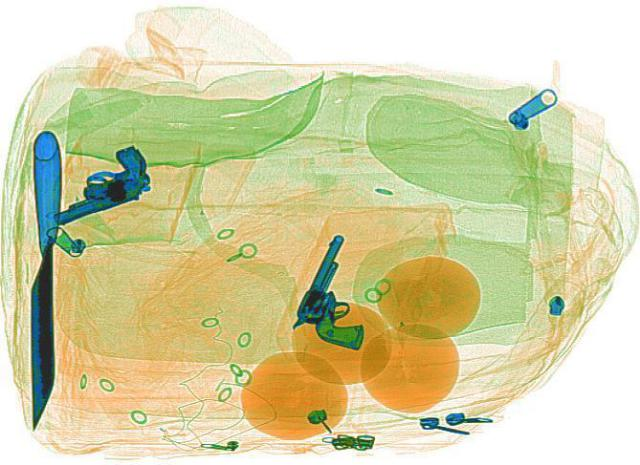Gun: (281, 231, 405, 350), (22, 143, 168, 225)
Knife: (29, 129, 61, 430)
